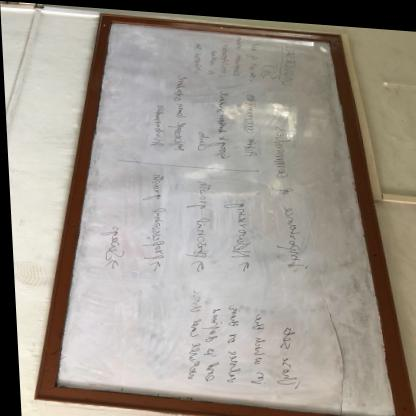Handwritten text: (265, 120, 309, 274), (135, 165, 173, 261), (180, 173, 215, 262), (267, 308, 305, 388), (217, 184, 256, 256), (170, 296, 200, 379), (218, 299, 246, 379), (241, 305, 270, 382), (200, 294, 225, 383), (209, 85, 236, 160), (232, 87, 260, 158), (278, 37, 312, 87), (92, 219, 130, 263), (138, 97, 168, 148), (172, 66, 189, 155), (230, 31, 248, 80), (245, 34, 261, 81), (215, 32, 232, 75), (193, 121, 216, 150), (190, 38, 206, 75), (205, 45, 221, 80), (261, 59, 279, 76)
